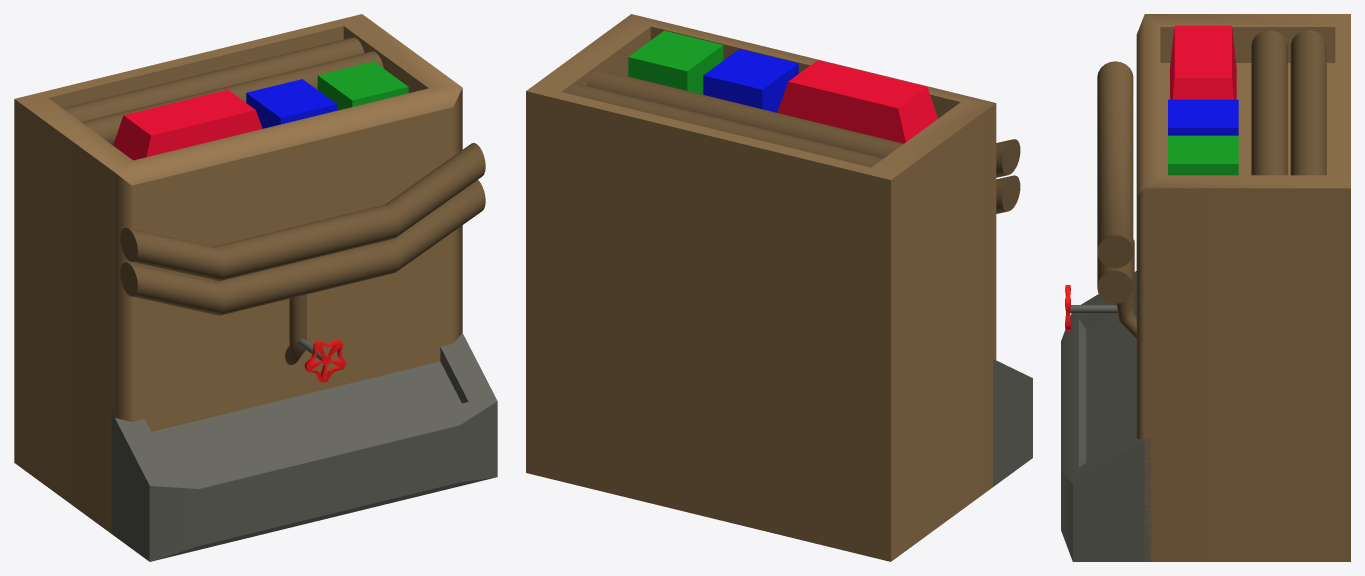
File: JT_WallVariant_002_Temp 1.fbx
The picture shows the model from 3 angles, left to right: view 1: azimuth 30°, elevation 25°; view 2: azimuth 150°, elevation 25°; view 3: azimuth 270°, elevation 25°; orthographic projection. The views are drawn at different scales.
Parts seen in each view (by area): view 1: JT_WallVariant_002_Temp; view 2: JT_WallVariant_002_Temp; view 3: JT_WallVariant_002_Temp.
Part boxes in pixels (x1,y1,x2,y2): JT_WallVariant_002_Temp: (14, 14, 497, 561); JT_WallVariant_002_Temp: (526, 14, 1032, 561); JT_WallVariant_002_Temp: (1061, 14, 1350, 561).
Size of the model in its own units: 1 by 1.04 by 0.703.
